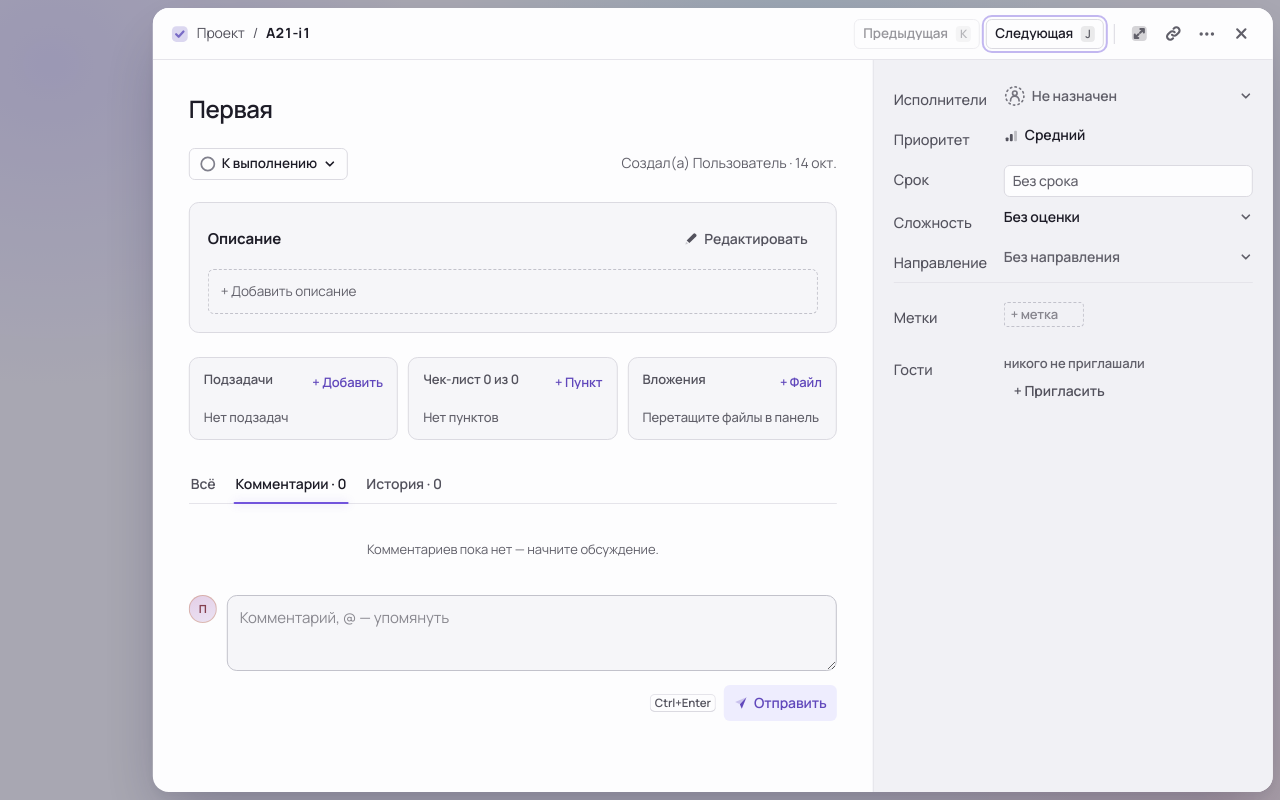
Test: IssueModal — характеризационные тесты (ТЗ 5.12 d, до переработки) › панельный режим: кнопка «следующая» переключает на соседнюю задачу по DOM-порядку представления
Click the button with aria-label "Следующая задача": (1044, 34) x1=985 y1=18 x2=1103 y2=48
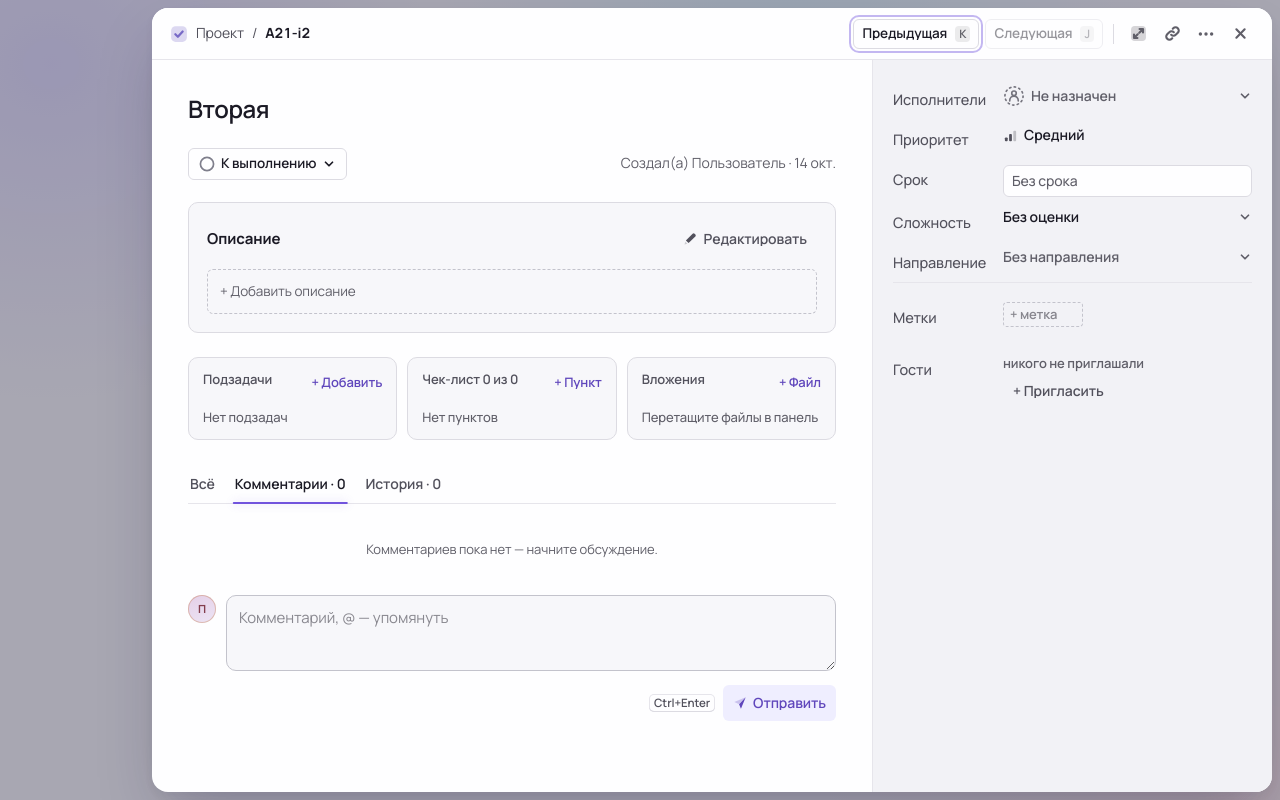
Check: the button "Вторая" is shown, box x1=188 y1=92 x2=269 y2=125
